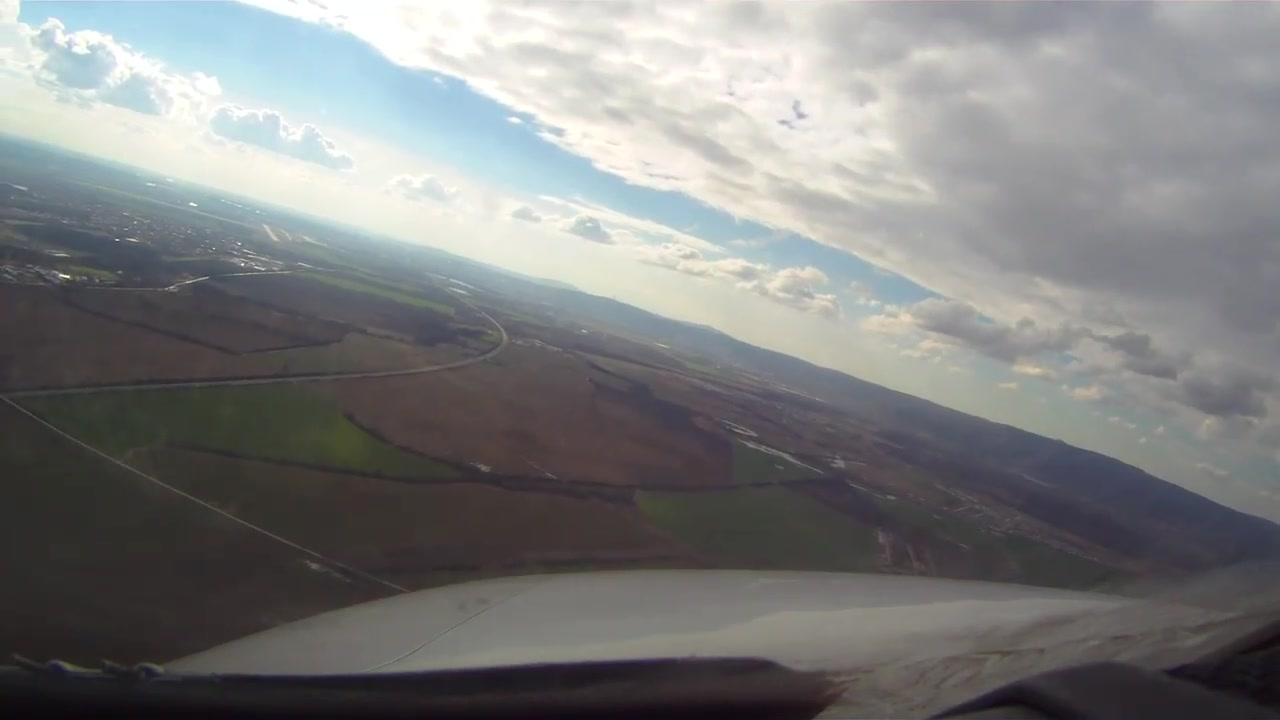runway: (262, 220, 286, 245)
